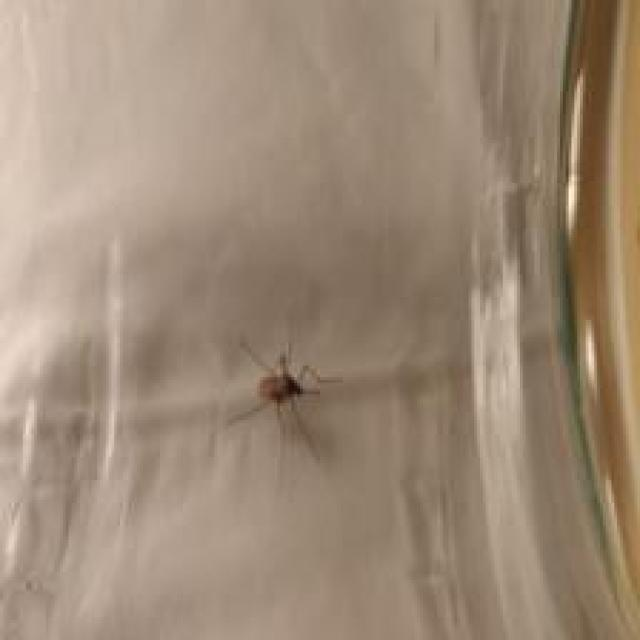Culex: (226, 337, 343, 432)
